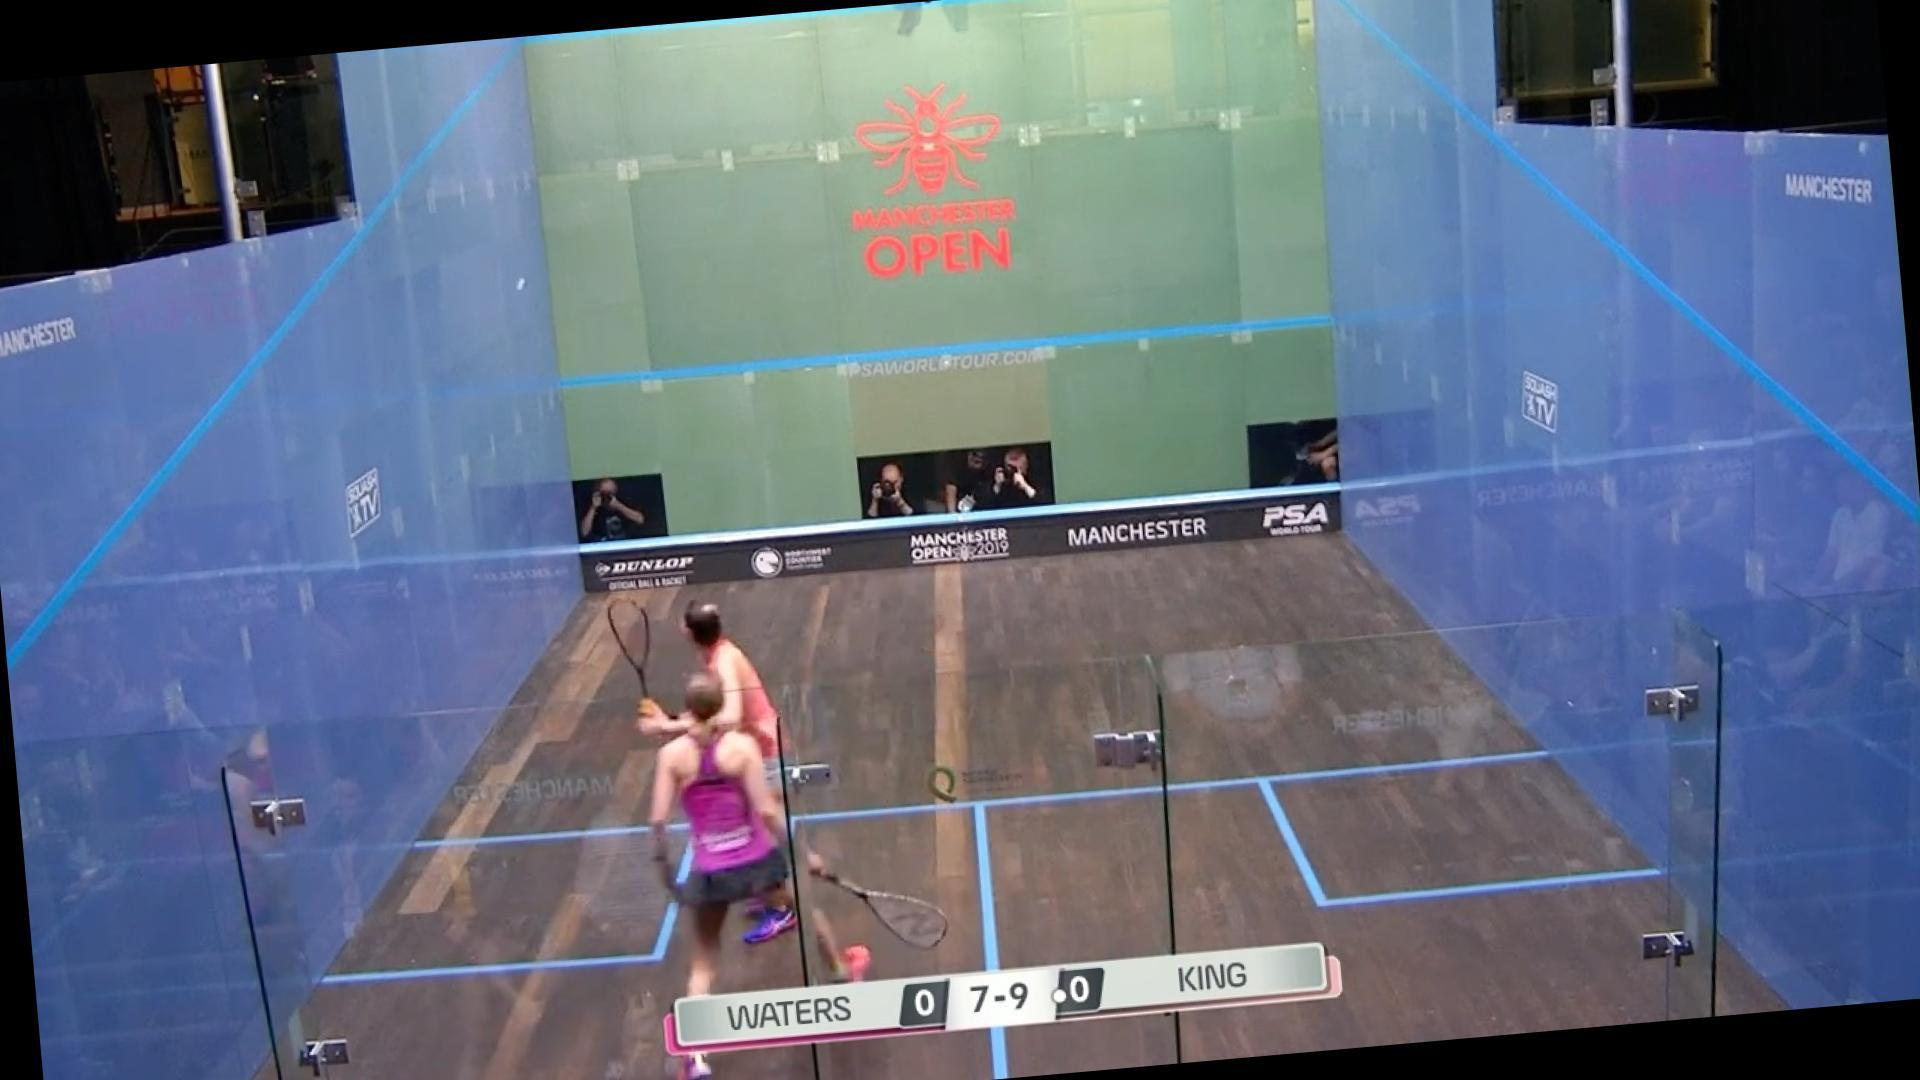Squash-Ball: (479, 251, 551, 314)
